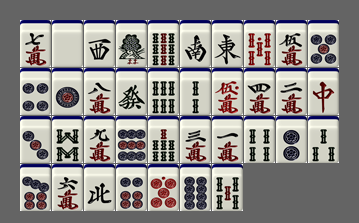0m: (212, 68, 243, 115)
0p: (148, 164, 179, 211)
0s: (244, 20, 275, 67)
1m: (212, 116, 243, 163)
1p: (52, 68, 83, 115)
1s: (116, 20, 147, 67)
1z: (212, 20, 243, 67)
2m: (276, 68, 307, 115)
2p: (276, 116, 307, 163)
2s: (180, 68, 211, 115)
2z: (180, 20, 211, 67)
3m: (180, 116, 211, 163)
3p: (20, 116, 51, 163)
3s: (308, 116, 339, 163)
3z: (84, 20, 115, 67)
4m: (244, 68, 275, 115)
4p: (20, 68, 51, 115)
4s: (244, 116, 275, 163)
4z: (84, 164, 115, 211)
5m: (276, 20, 307, 67)
5p: (308, 20, 339, 67)
5s: (212, 164, 243, 211)
5z: (52, 20, 83, 67)
6m: (52, 164, 83, 211)
6p: (116, 164, 147, 211)
6s: (148, 68, 179, 115)
6z: (116, 68, 147, 115)
7m: (20, 20, 51, 67)
7p: (20, 164, 51, 211)
7s: (148, 116, 179, 163)
7z: (308, 68, 339, 115)
8m: (84, 68, 115, 115)
8p: (180, 164, 211, 211)
8s: (52, 116, 83, 163)
9m: (84, 116, 115, 163)
9p: (116, 116, 147, 163)
9s: (148, 20, 179, 67)
